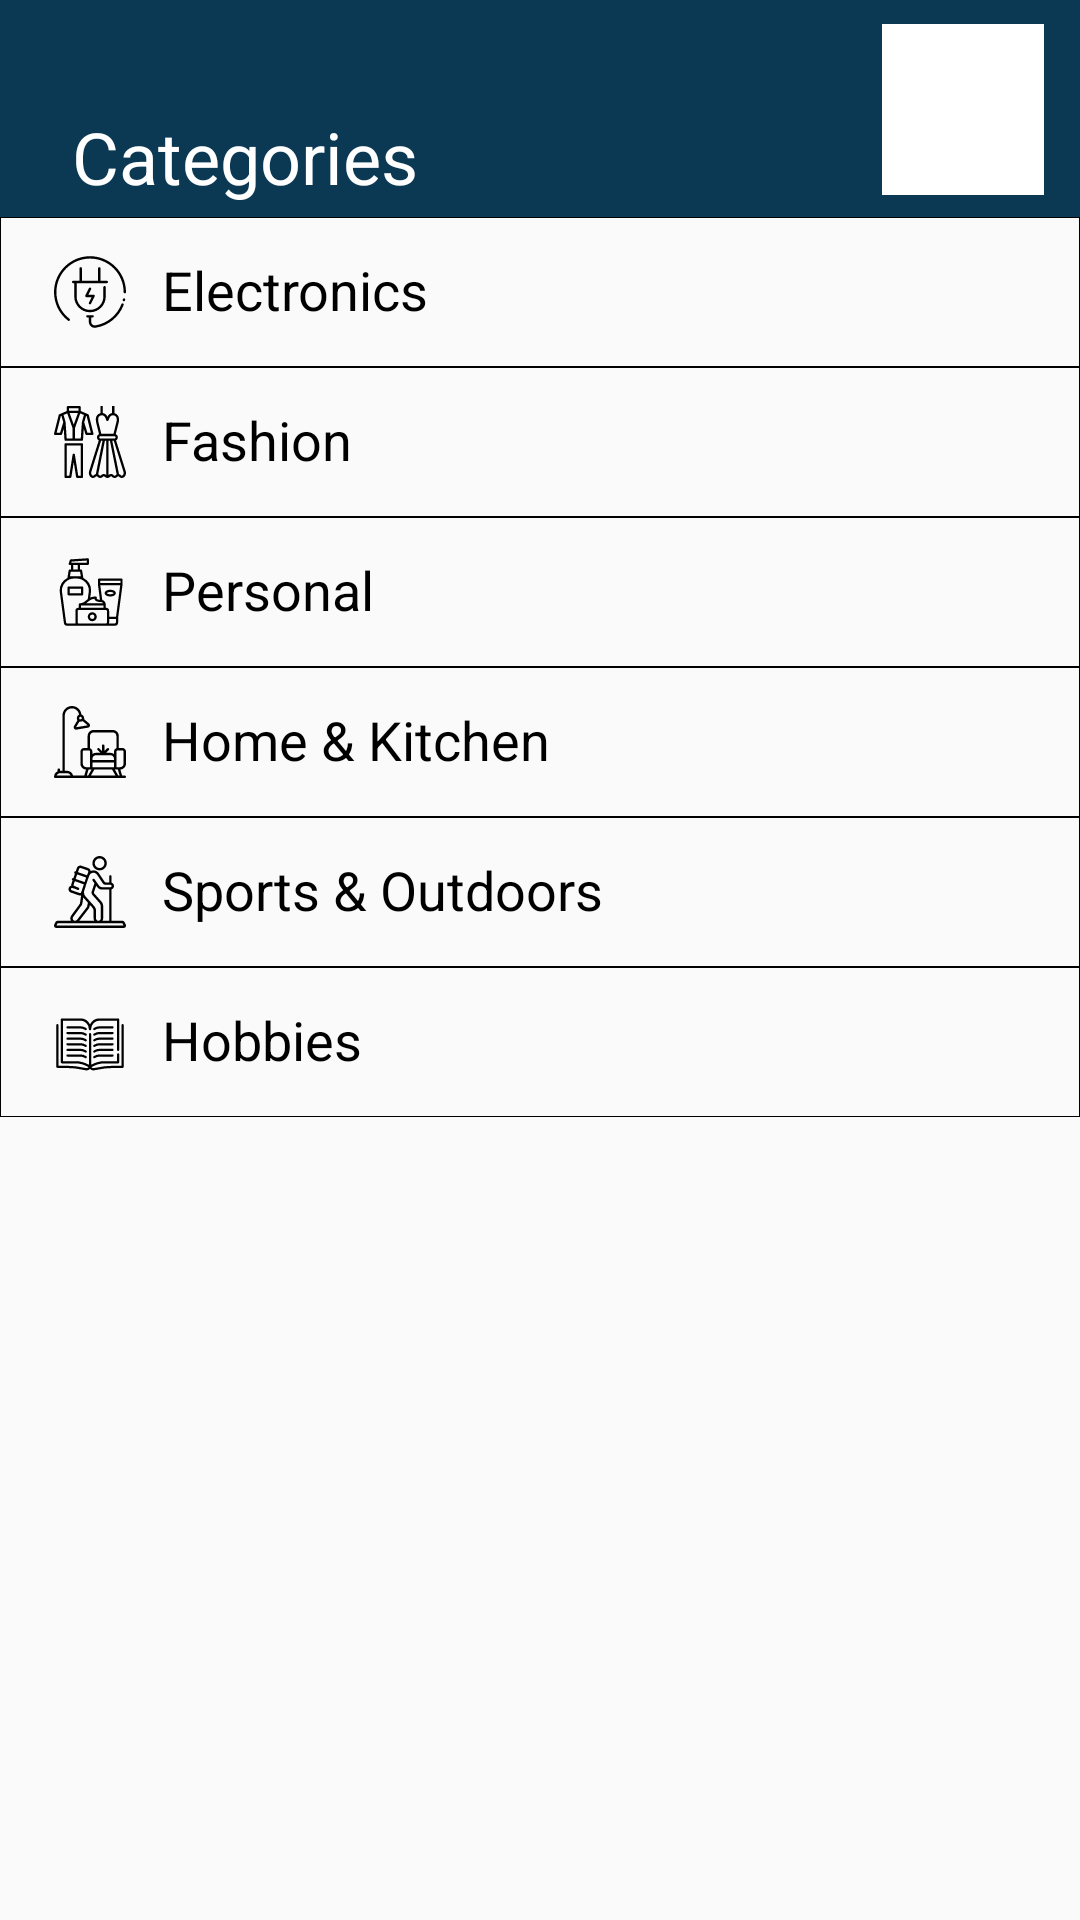

Where icons sit on this 1080*1920 app screen, as (x1=x1, y1=y1, x2=x2, y2=y2):
book: (x1=56, y1=1018, x2=124, y2=1071)
clothes: (x1=54, y1=406, x2=126, y2=478)
hiking: (x1=54, y1=856, x2=126, y2=928)
living room: (x1=54, y1=706, x2=126, y2=778)
plug: (x1=54, y1=256, x2=126, y2=328)
